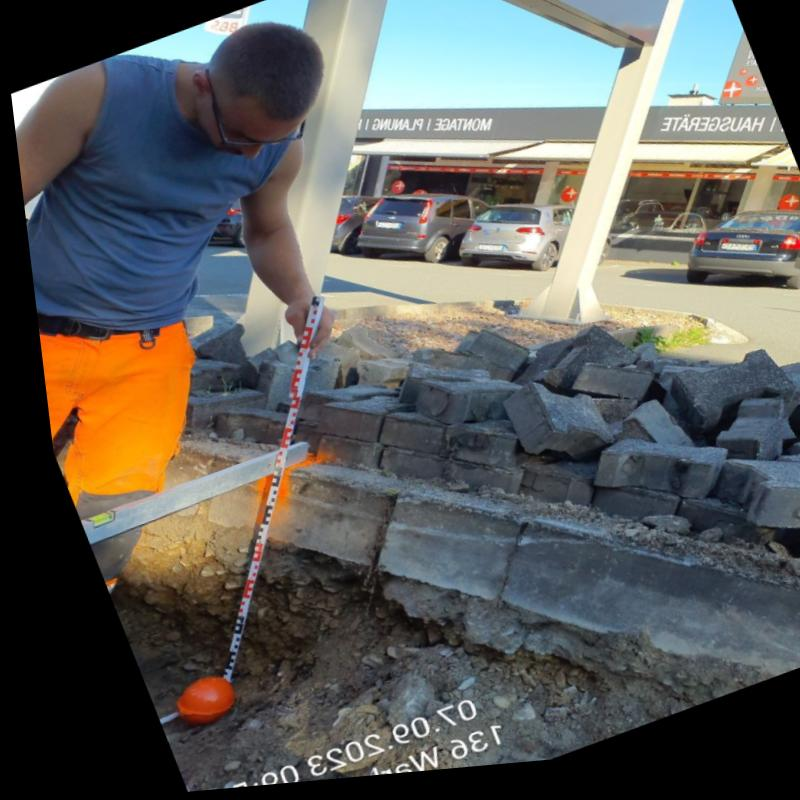Kugelmarker: (159, 680, 216, 728)
